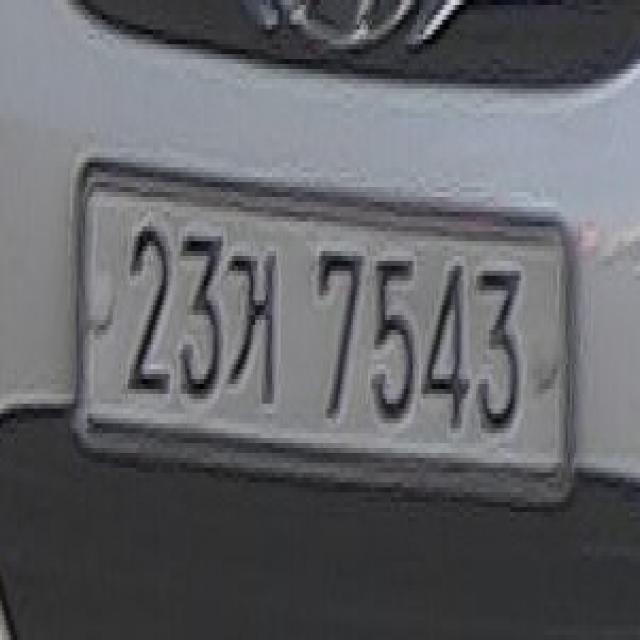2: (122, 213, 175, 406)
3: (474, 246, 543, 455), (180, 213, 224, 411)
4: (422, 243, 479, 451)
5: (371, 237, 422, 434)
7: (312, 235, 368, 434)
geo: (227, 229, 284, 415)
license_plate: (83, 175, 568, 475)
